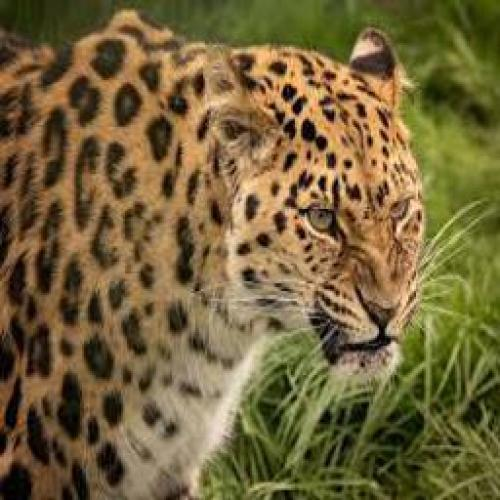amur_leopard-endangered: (0, 11, 424, 397)
